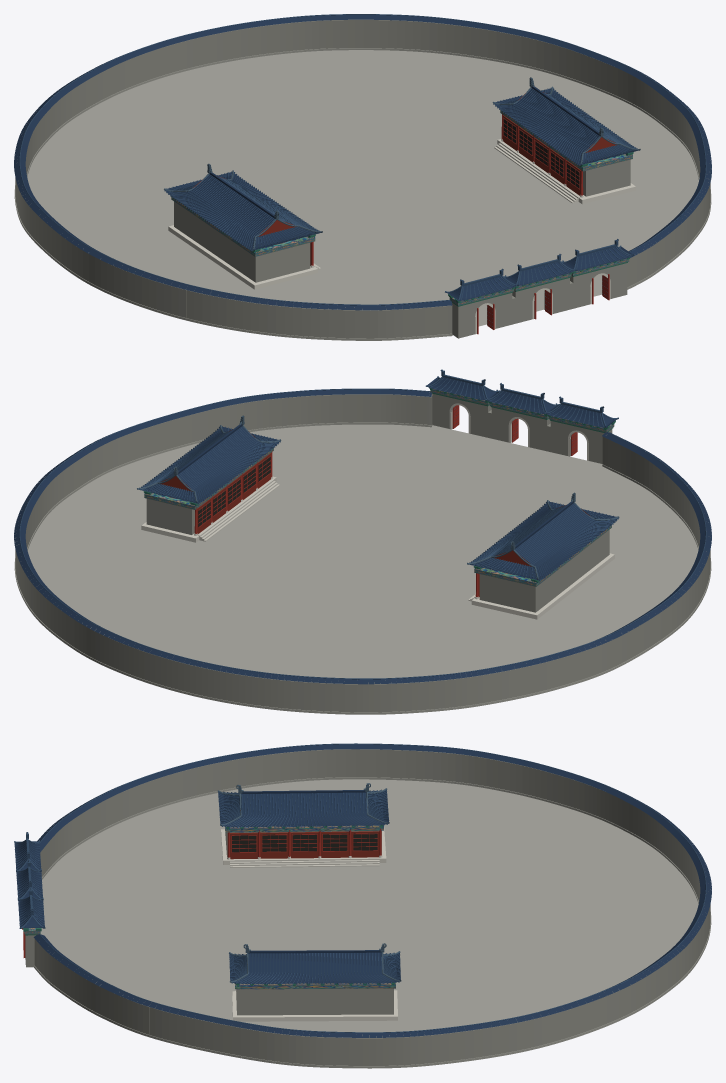
File: preview.glb
3 views of the same model, one above another, from view 1: azimuth 30°, elevation 25°; view 2: azimuth 150°, elevation 25°; view 3: azimuth 270°, elevation 25° (orthographic).
Visible parts, largest first — view 1: Echo court paving, Echo court brick, Echo court roof, Echo court tile, Echo court stoneDark, Echo court stone, Echo court frieze, Echo court red, Echo court redDark, Echo court shade, Echo court gold, Echo court jade; view 2: Echo court paving, Echo court brick, Echo court roof, Echo court tile, Echo court stoneDark, Echo court stone, Echo court frieze, Echo court red, Echo court redDark, Echo court shade, Echo court gold, Echo court jade; view 3: Echo court paving, Echo court brick, Echo court roof, Echo court tile, Echo court stoneDark, Echo court stone, Echo court shade, Echo court frieze, Echo court redDark, Echo court red, Echo court gold.
Boxes of the visible parts, x1,y1,x2,y2 form: Echo court paving: (27,50,698,326); Echo court brick: (15,19,710,338); Echo court roof: (14,15,711,310); Echo court tile: (19,14,706,305); Echo court stoneDark: (14,48,711,340); Echo court stone: (168,139,635,334); Echo court frieze: (171,110,632,305); Echo court red: (311,112,609,334); Echo court redDark: (193,92,616,265); Echo court shade: (503,118,579,188); Echo court gold: (164,77,640,326); Echo court jade: (171,115,633,306); Echo court paving: (27,424,698,678); Echo court brick: (15,393,710,712); Echo court roof: (14,377,711,684); Echo court tile: (19,369,706,679); Echo court stoneDark: (14,422,711,714); Echo court stone: (141,403,614,619); Echo court frieze: (144,389,614,586); Echo court red: (194,405,577,596); Echo court redDark: (160,429,590,597); Echo court shade: (198,456,270,526); Echo court gold: (137,408,619,580); Echo court jade: (143,388,615,582); Echo court paving: (40,779,698,1032); Echo court brick: (25,749,710,1065); Echo court roof: (14,744,711,1037); Echo court tile: (14,743,706,1032); Echo court stoneDark: (34,777,711,1068); Echo court stone: (221,827,397,1021); Echo court shade: (232,833,377,852); Echo court frieze: (24,825,395,989); Echo court redDark: (230,810,379,859); Echo court red: (22,828,381,957); Echo court gold: (217,783,401,982).
Bounding box in the file's own units: 0.6891 × 0.0708 × 0.692.
Materials: 12 (1 with a texture image).
